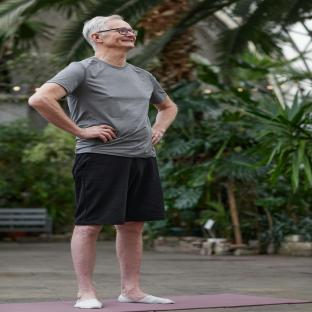Human: (29, 15, 177, 308)
